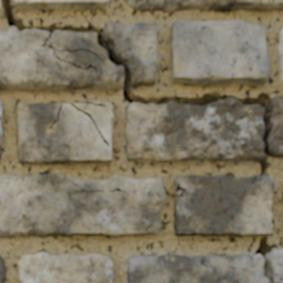brick: (0, 174, 164, 237), (171, 21, 269, 85), (174, 175, 272, 236), (18, 103, 113, 163), (19, 252, 113, 282), (126, 0, 282, 11), (15, 0, 107, 9), (278, 29, 282, 82), (0, 258, 5, 282), (0, 121, 2, 153), (0, 102, 2, 115)
broken_brick: (125, 99, 262, 163), (0, 27, 122, 91), (127, 253, 267, 282), (104, 21, 158, 86), (268, 94, 282, 158), (272, 248, 282, 282)
crack: (2, 0, 280, 176), (70, 103, 109, 146), (254, 235, 275, 282), (49, 103, 62, 129), (175, 181, 186, 197), (82, 100, 107, 107), (126, 140, 129, 152)
